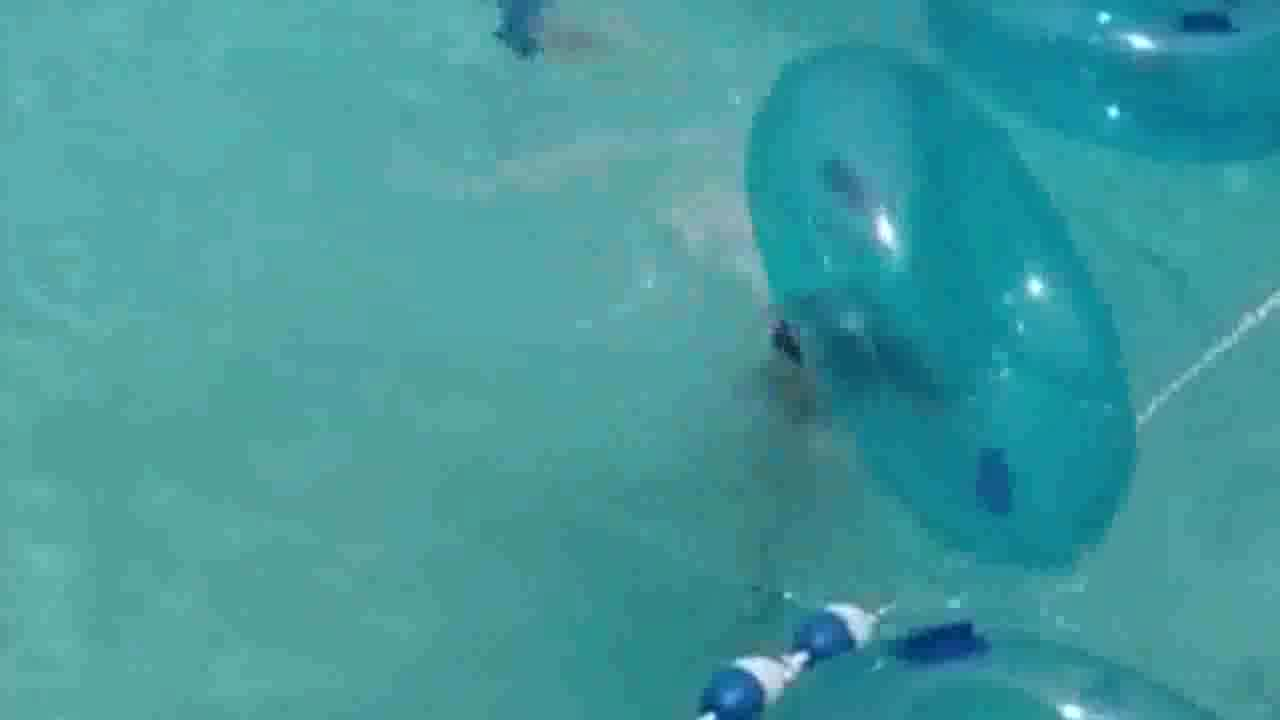Drowning: (726, 289, 930, 491)
